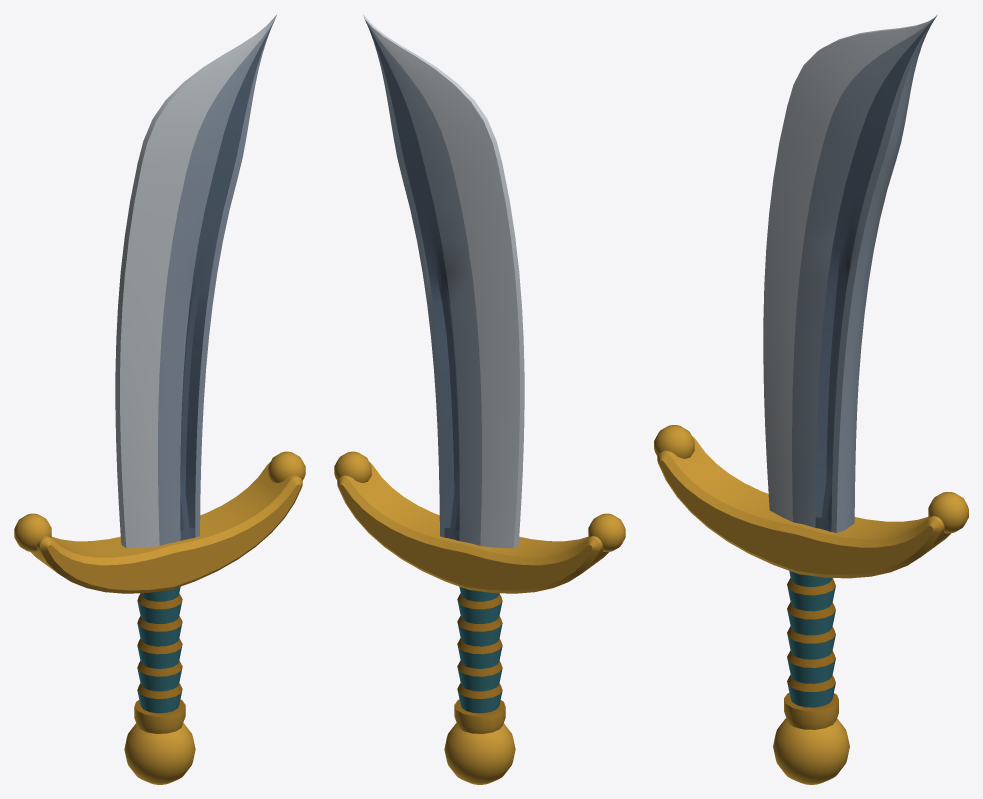
File: Scimitar_23.glb
3 views of the same model, side by side, from view 1: azimuth 30°, elevation 25°; view 2: azimuth 150°, elevation 25°; view 3: azimuth 330°, elevation 25° (orthographic). The views are drawn at different scales.
Parts seen in each view (by area): view 1: Scimitar_23; view 2: Scimitar_23; view 3: Scimitar_23.
Part boxes in pixels (box(x1,y1,x2,y2)): Scimitar_23: box(14, 15, 305, 784); Scimitar_23: box(334, 15, 625, 784); Scimitar_23: box(654, 14, 968, 784).
Bounding box in the file's own units: 2.57 × 6.34 × 0.554.
